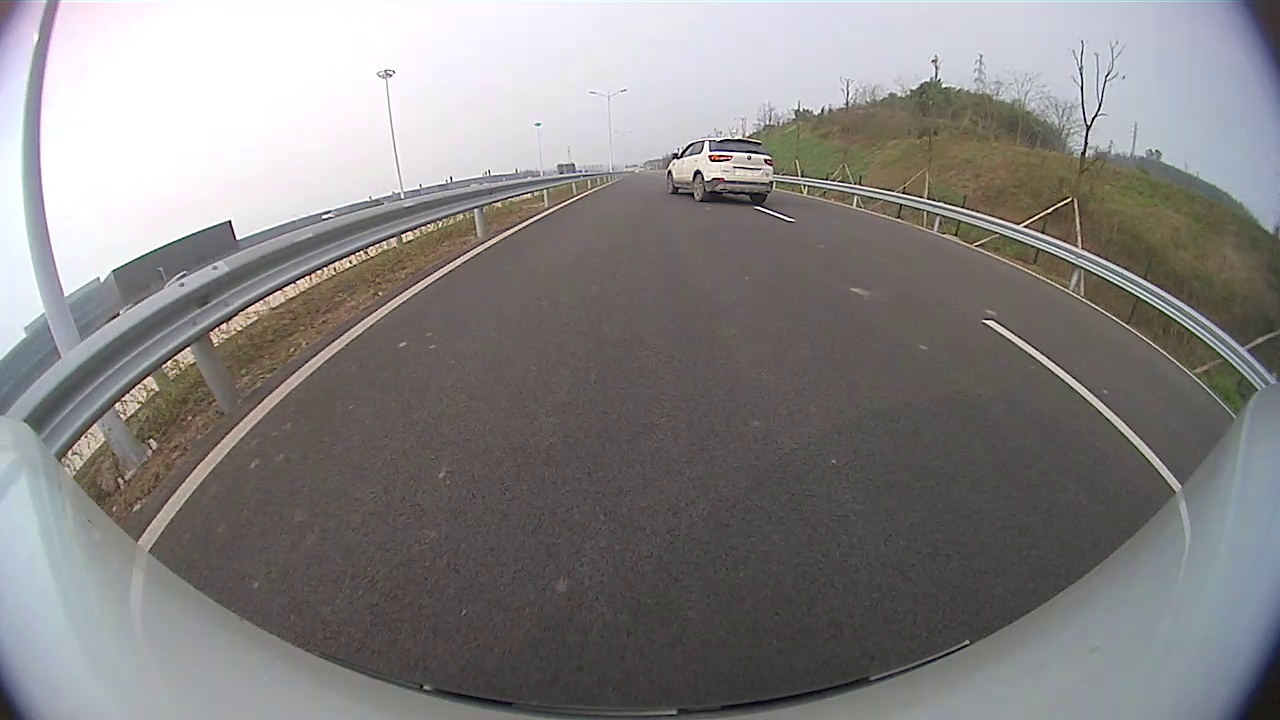car: (665, 137, 775, 205)
front: (666, 173, 679, 195)
rear: (692, 172, 709, 204)
